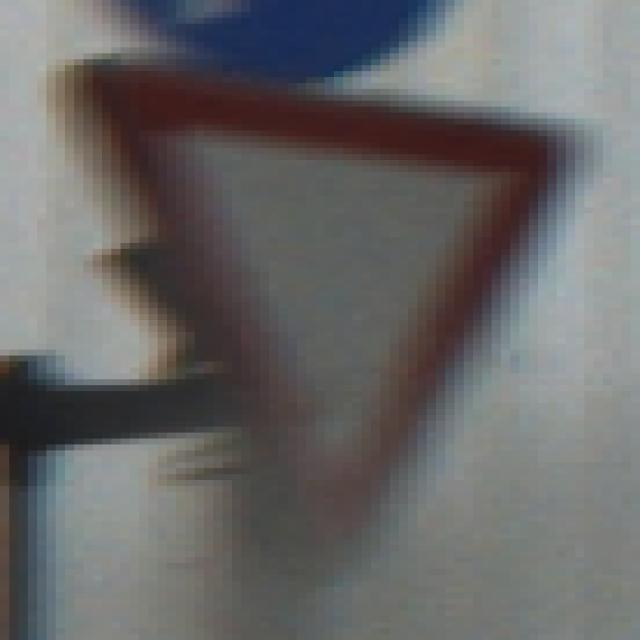Give Way: (66, 54, 585, 588)
